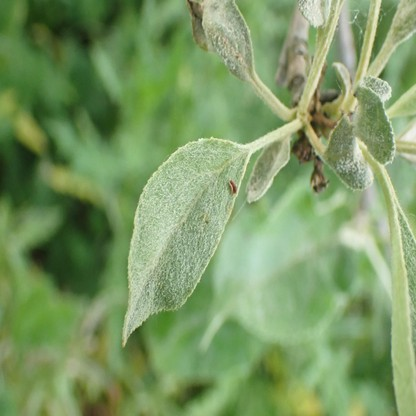powder: (121, 137, 249, 349), (326, 77, 393, 192), (187, 0, 254, 83), (391, 198, 416, 414), (298, 1, 330, 26)
